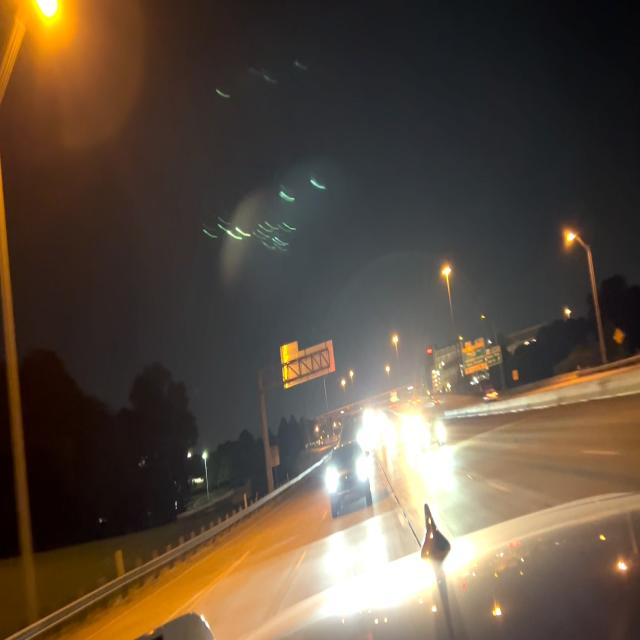back-of-sign: (279, 340, 329, 391)
